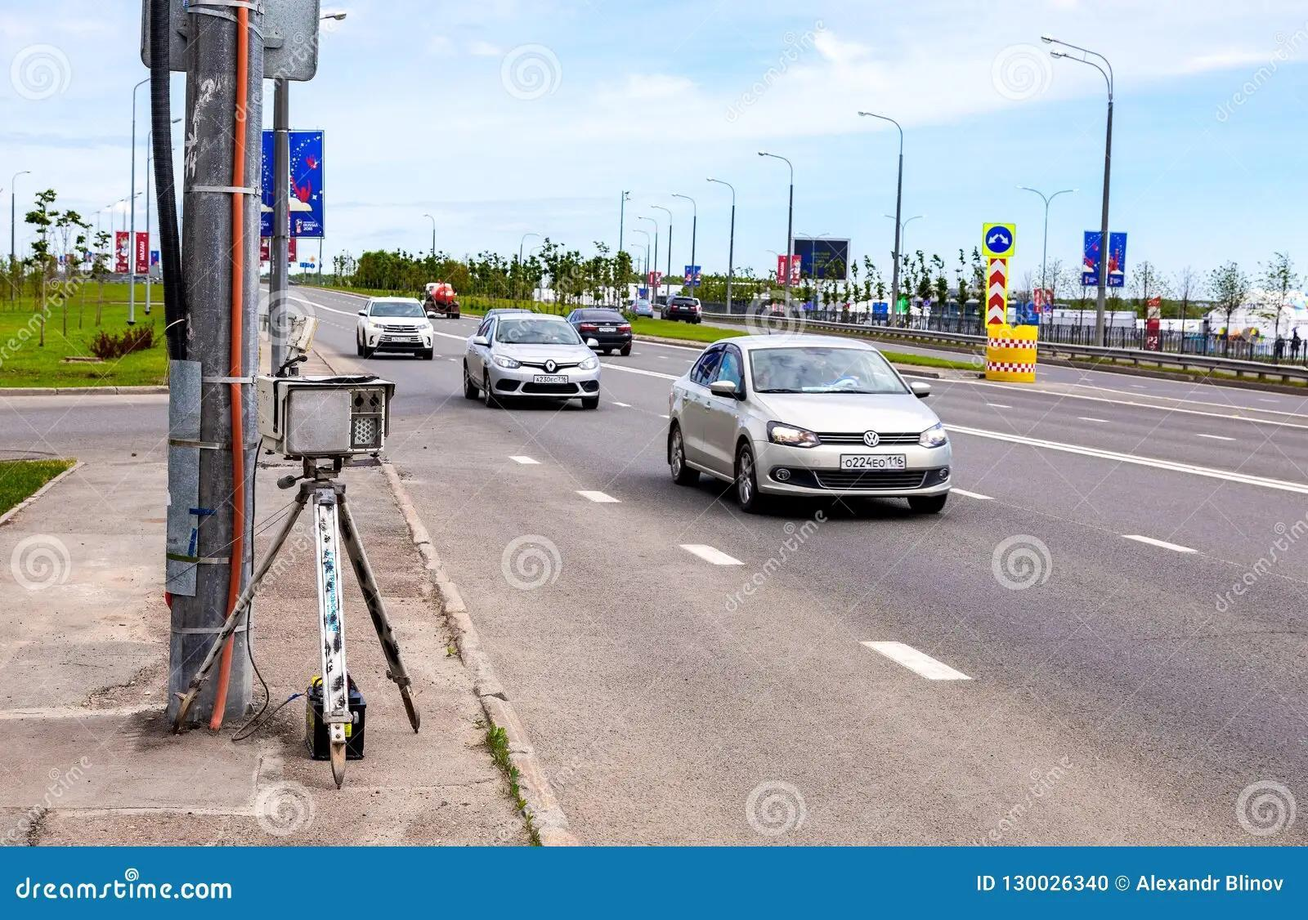Monitor: (253, 369, 395, 462)
